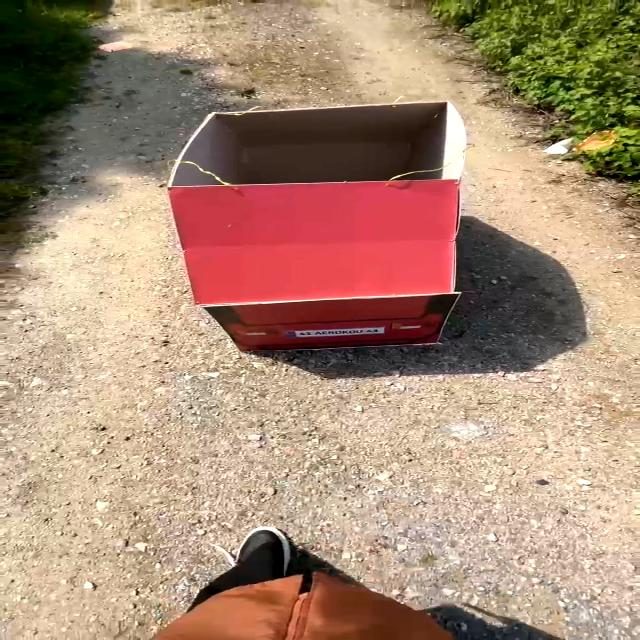red_car: (119, 98, 528, 366)
